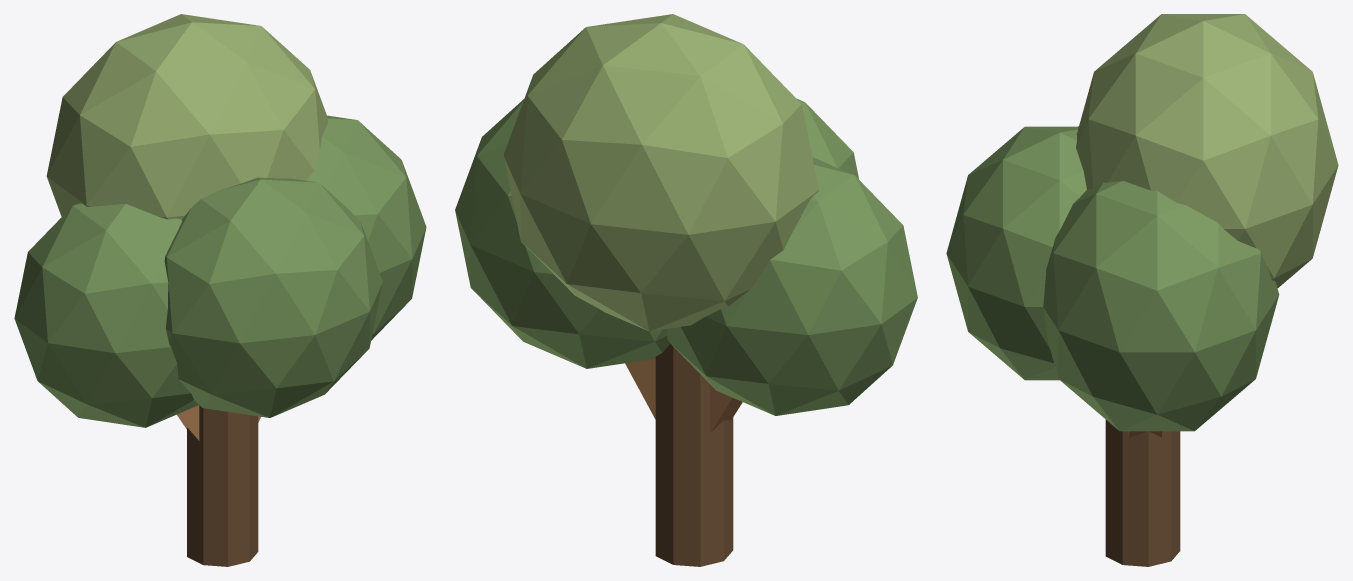
File: tree-round.glb
3 views of the same model, side by side, from view 1: azimuth 30°, elevation 25°; view 2: azimuth 150°, elevation 25°; view 3: azimuth 270°, elevation 25° (orthographic). The views are drawn at different scales.
Parts seen in each view (by area): view 1: Mesh_tree-round_leaf, Leaf crown.002, Tree trunk; view 2: Leaf crown.002, Mesh_tree-round_leaf, Tree trunk, Mesh_tree-round_wood; view 3: Mesh_tree-round_leaf, Leaf crown.002, Tree trunk.
Boxes of the visible parts, left/top/right/bottom form: Mesh_tree-round_leaf: left=14, top=115, right=426, bottom=427; Leaf crown.002: left=46, top=14, right=328, bottom=219; Tree trunk: left=187, top=405, right=258, bottom=566; Leaf crown.002: left=503, top=14, right=818, bottom=331; Mesh_tree-round_leaf: left=455, top=98, right=917, bottom=415; Tree trunk: left=655, top=343, right=733, bottom=566; Mesh_tree-round_wood: left=625, top=358, right=742, bottom=432; Mesh_tree-round_leaf: left=946, top=126, right=1279, bottom=431; Leaf crown.002: left=1076, top=14, right=1338, bottom=287; Tree trunk: left=1105, top=420, right=1180, bottom=566.
Size of the model in its own units: 0.9036 by 1.14 by 0.7645.
